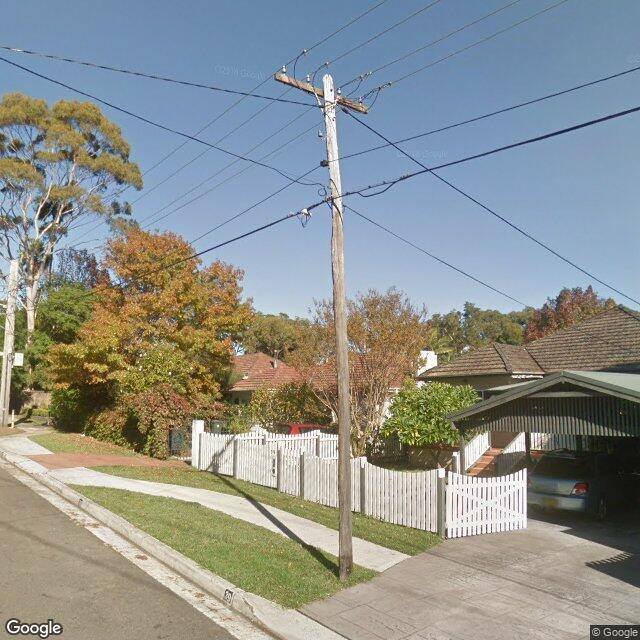crossarm: (274, 71, 366, 116)
timber-pole: (321, 74, 354, 581), (0, 259, 19, 426)
